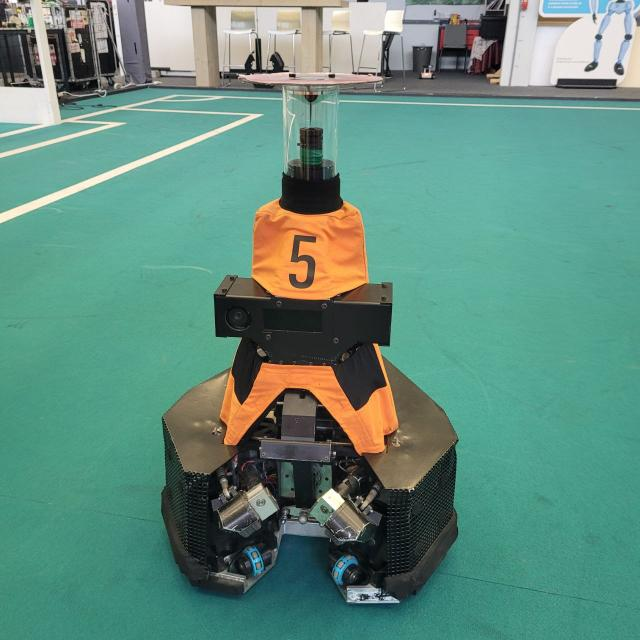Robots: (163, 66, 465, 613)
